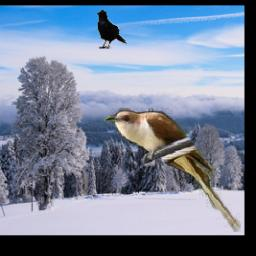Crow: (96, 9, 128, 49)
Cuckoo: (105, 108, 242, 232)
